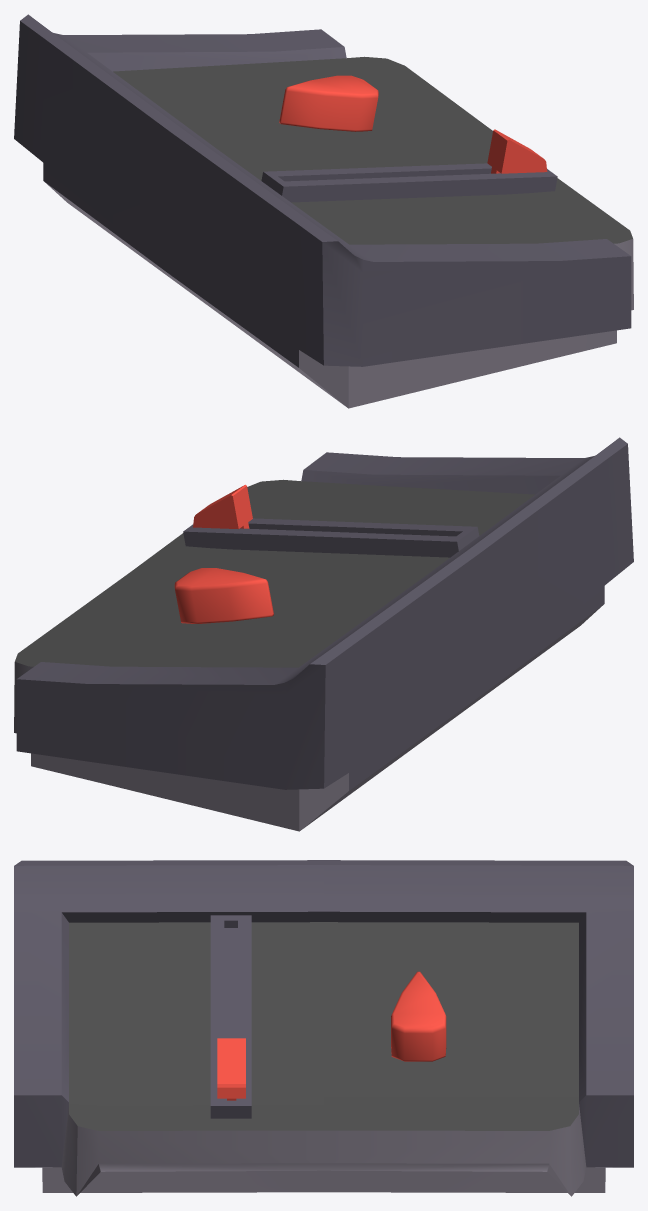
The model's file is SlideUC.fbx.
The picture shows the model from 3 angles, top to bottom: view 1: azimuth 30°, elevation 25°; view 2: azimuth 150°, elevation 25°; view 3: azimuth 270°, elevation 25°; orthographic projection.
Parts seen in each view (by area): view 1: SlideUC_Frame, SlideUC_Tumb, SlideUC_Slide; view 2: SlideUC_Frame, SlideUC_Tumb, SlideUC_Slide; view 3: SlideUC_Frame, SlideUC_Tumb, SlideUC_Slide.
Part boxes in pixels (x1=…): SlideUC_Frame: x1=14, y1=14, x2=633, y2=408; SlideUC_Tumb: x1=279, y1=75, x2=378, y2=131; SlideUC_Slide: x1=487, y1=129, x2=547, y2=173; SlideUC_Frame: x1=14, y1=437, x2=633, y2=831; SlideUC_Tumb: x1=174, y1=568, x2=273, y2=623; SlideUC_Slide: x1=193, y1=484, x2=252, y2=529; SlideUC_Frame: x1=14, y1=860, x2=633, y2=1196; SlideUC_Tumb: x1=391, y1=971, x2=446, y2=1061; SlideUC_Slide: x1=217, y1=1038, x2=245, y2=1100.
Size of the model in its own units: 47.21 by 23.83 by 72.7.
